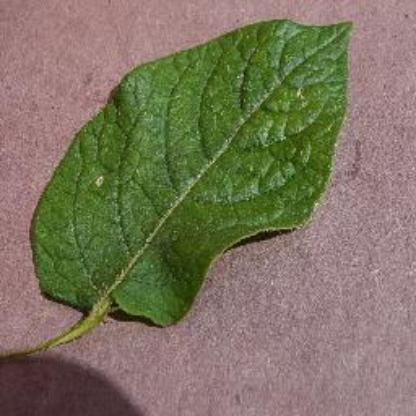Healthy-plant: (12, 16, 361, 354)
